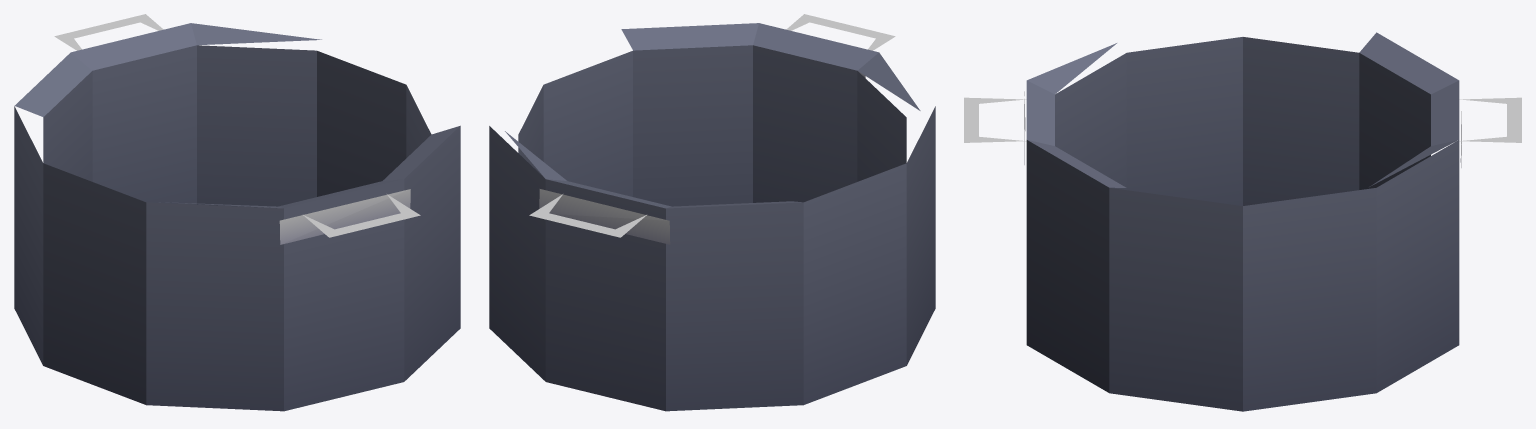
The model's file is pot.lod.glb.
3 renders of one model, left to right at view 1: azimuth 30°, elevation 25°; view 2: azimuth 150°, elevation 25°; view 3: azimuth 270°, elevation 25°, orthographic.
Visible parts, largest first — view 1: m; view 2: m; view 3: m.
Part boxes in pixels (x1,y1,x2,y2): m: [14, 14, 460, 411]; m: [489, 14, 935, 411]; m: [964, 32, 1521, 411].
Size of the model in its own units: 0.1822 by 0.1 by 0.2236.
